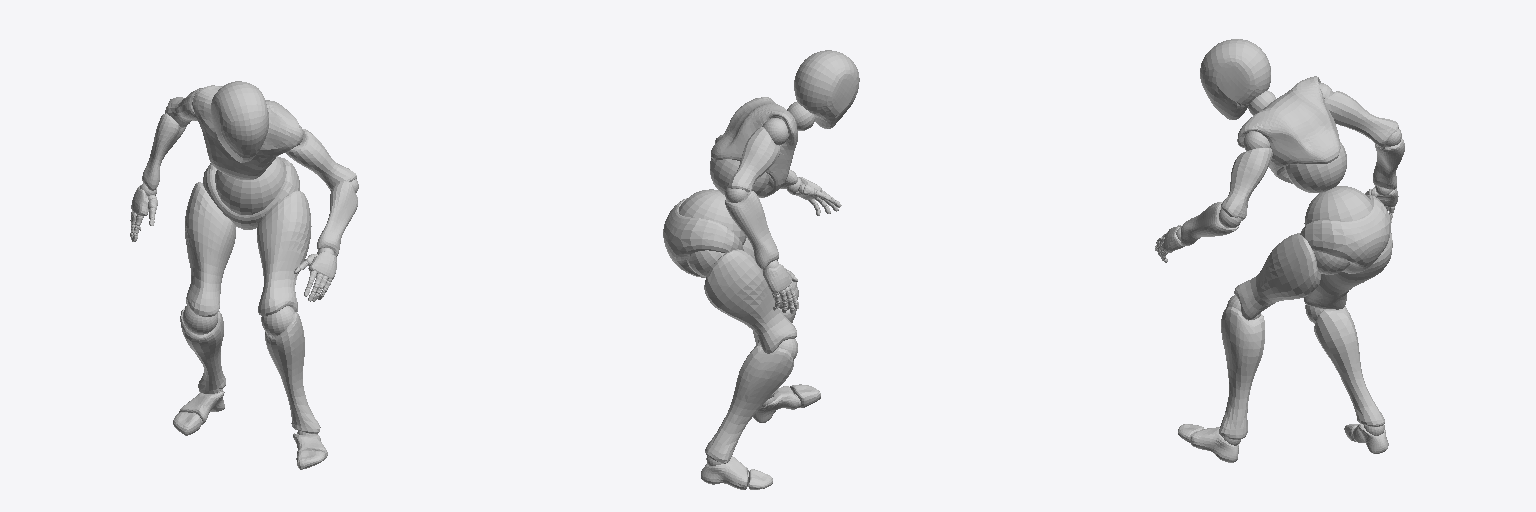
The picture shows the model from 3 angles: view 1: azimuth 30°, elevation 25°; view 2: azimuth 150°, elevation 25°; view 3: azimuth 270°, elevation 25°; orthographic projection.
Parts seen in each view (by area): view 1: Beta_Surface, Beta_Joints; view 2: Beta_Surface, Beta_Joints; view 3: Beta_Surface, Beta_Joints.
Boxes of the visible parts, x1=… form: Beta_Surface: x1=130, y1=81, x2=357, y2=469; Beta_Joints: x1=130, y1=107, x2=358, y2=434; Beta_Surface: x1=663, y1=50, x2=859, y2=489; Beta_Joints: x1=679, y1=102, x2=837, y2=486; Beta_Surface: x1=1155, y1=39, x2=1404, y2=462; Beta_Joints: x1=1156, y1=83, x2=1401, y2=445.
Bounding box in the file's own units: 0.6058 × 1.48 × 0.8538.